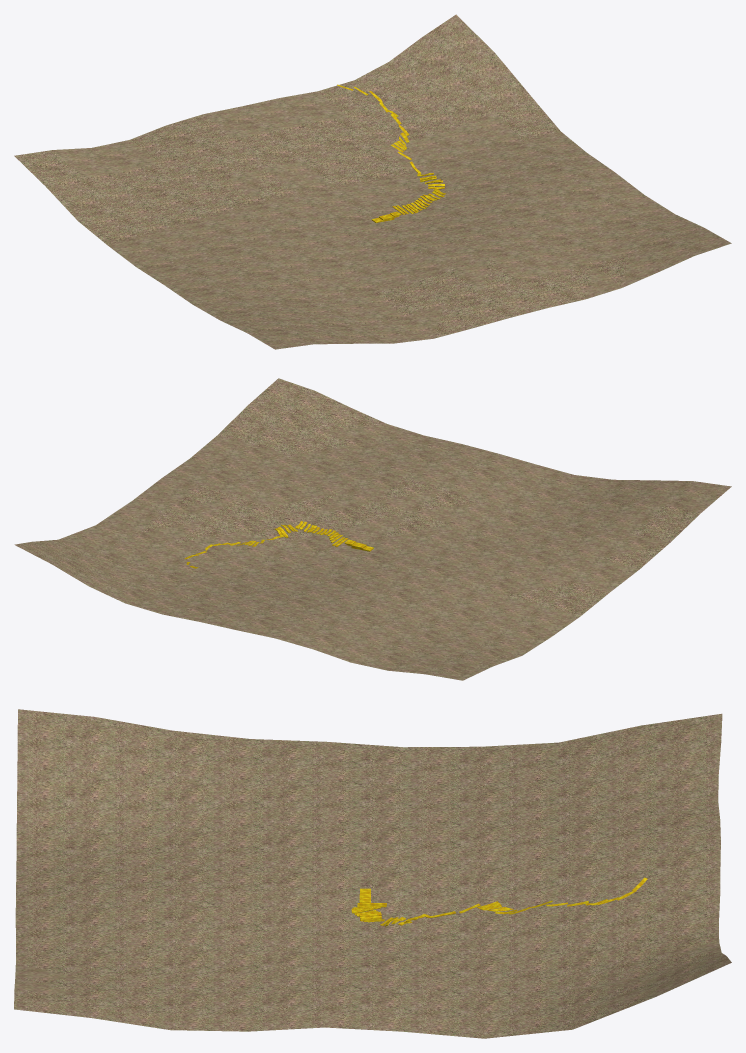
Rendered from aretz.gltf.
The picture shows the model from 3 angles, top to bottom: view 1: azimuth 30°, elevation 25°; view 2: azimuth 150°, elevation 25°; view 3: azimuth 270°, elevation 25°; orthographic projection. The views are drawn at different scales.
Visible parts, largest first — view 1: Plane, Cube; view 2: Plane, Cube; view 3: Plane, Cube.
Part boxes in pixels (x1,y1,x2,y2): Plane: [14, 14, 731, 349]; Cube: [337, 84, 445, 222]; Plane: [14, 378, 731, 680]; Cube: [184, 521, 373, 568]; Plane: [14, 709, 731, 1038]; Cube: [351, 877, 647, 926].
Size of the model in its own units: 196 by 23.87 by 197.
Materials: 2 (2 with a texture image).
